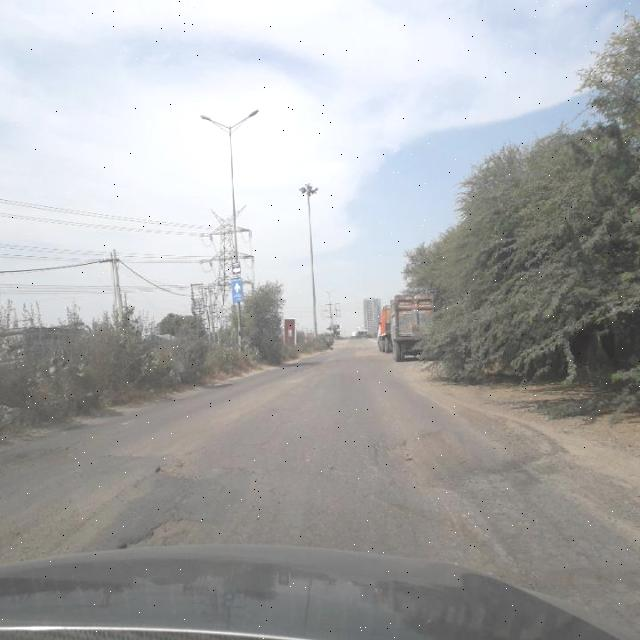D20: (398, 449, 630, 588)
D40: (492, 553, 640, 631), (374, 417, 471, 485), (120, 506, 220, 551), (1, 438, 72, 471), (145, 454, 216, 486)
